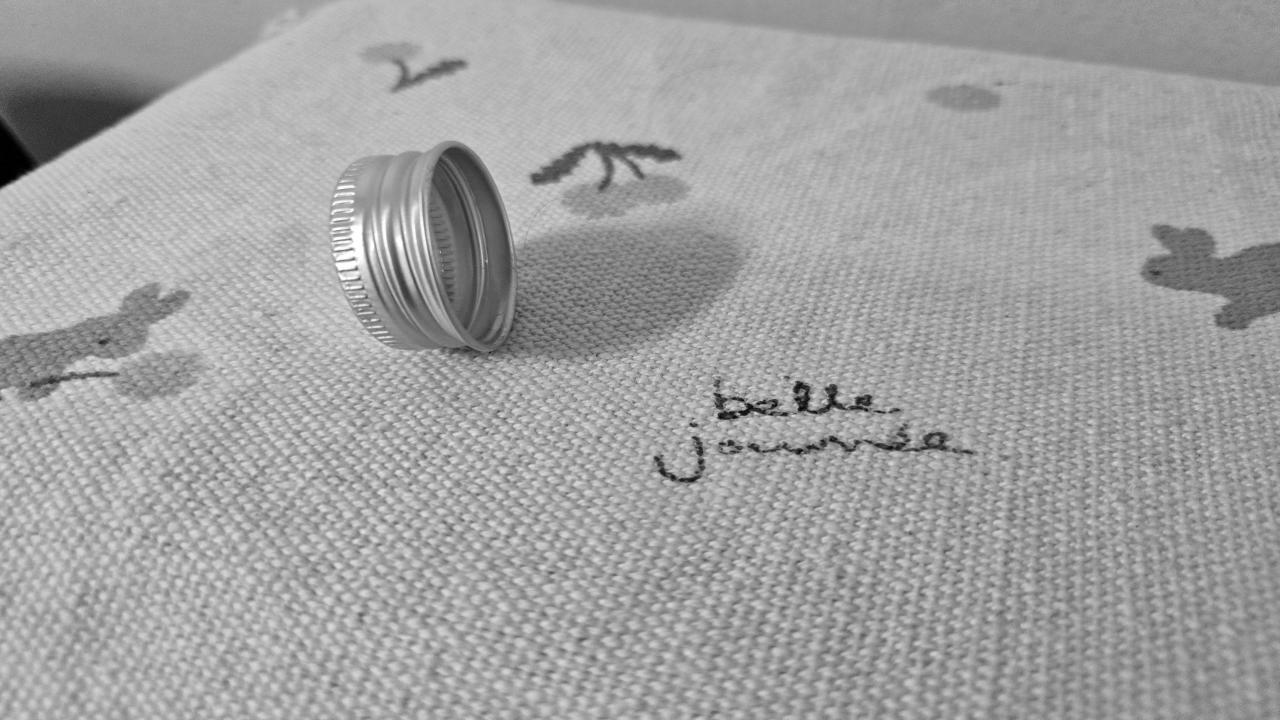bottle_cap: (338, 145, 518, 354)
